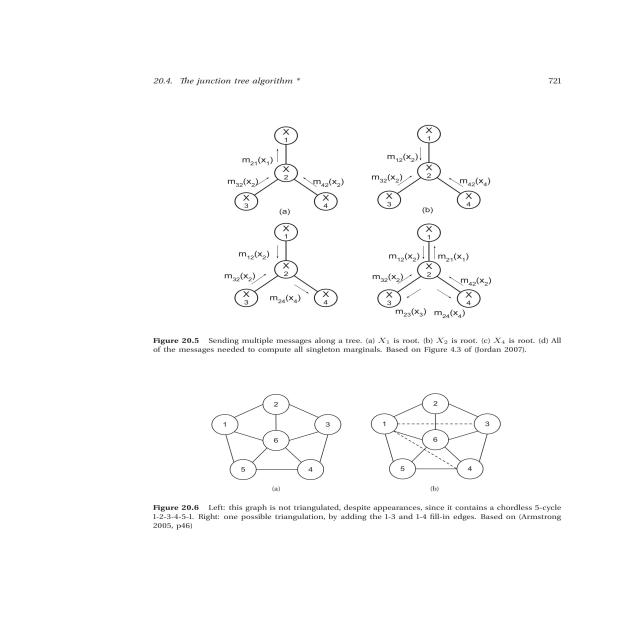diagram: (110, 115, 600, 378), (102, 371, 602, 536)
